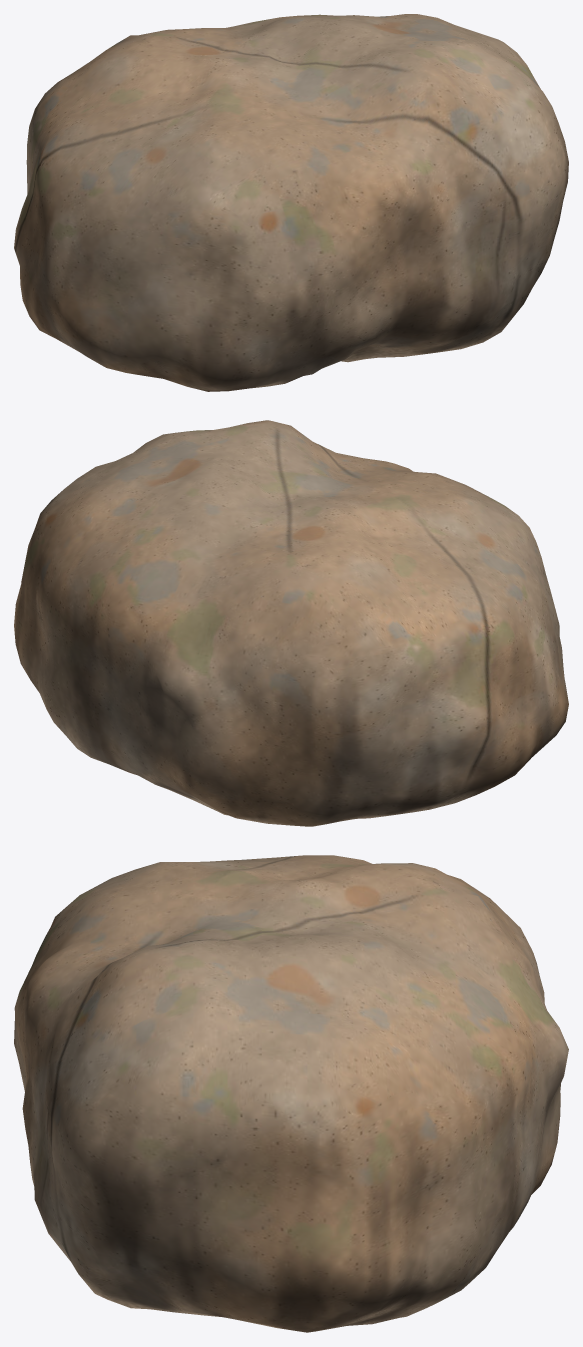
File: rock_c.glb
3 views of the same model, one above another, from view 1: azimuth 30°, elevation 25°; view 2: azimuth 150°, elevation 25°; view 3: azimuth 270°, elevation 25° (orthographic). The views are drawn at different scales.
Parts seen in each view (by area): view 1: rock_c; view 2: rock_c; view 3: rock_c.
Part boxes in pixels (<box>): rock_c: <box>14,14,568,391</box>; rock_c: <box>14,420,568,826</box>; rock_c: <box>14,855,568,1332</box>.
Size of the model in its own units: 1.03 by 0.5656 by 0.8162.
1 material, 1 textured.
